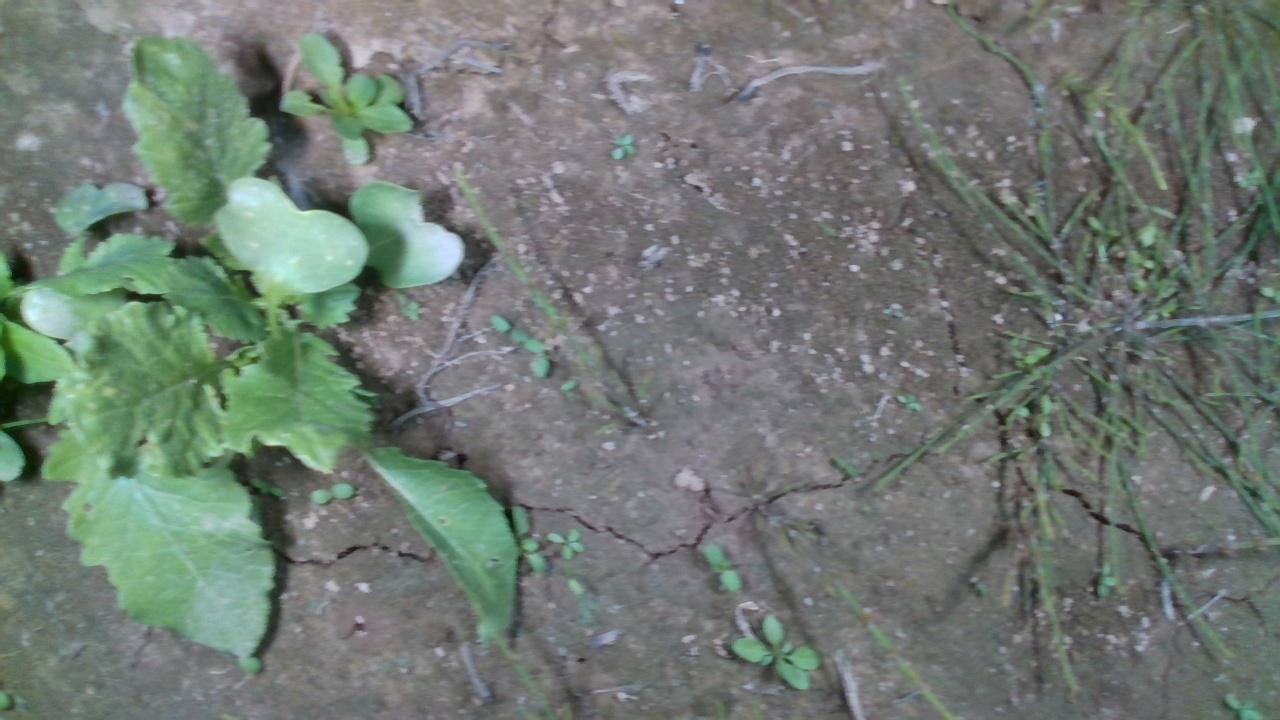weed: (700, 541, 739, 593), (544, 524, 585, 559), (305, 479, 355, 507), (606, 130, 640, 159)
